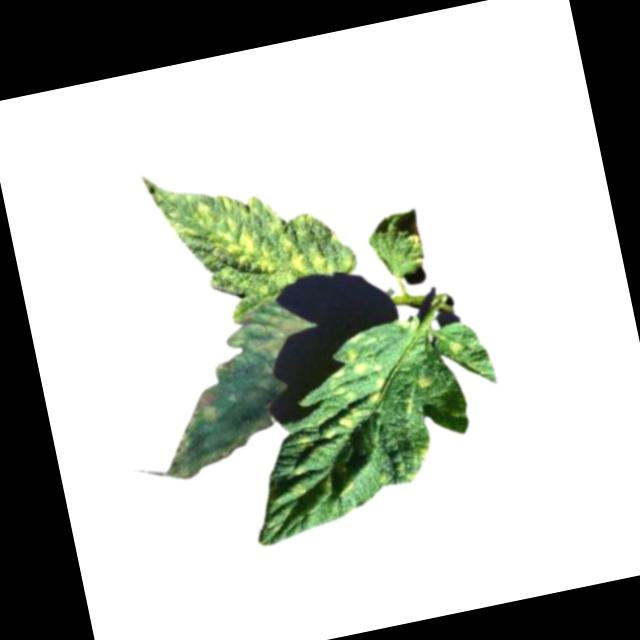Leaf_Mold: (238, 327, 439, 539), (141, 136, 358, 318), (138, 296, 325, 481), (413, 364, 444, 397), (446, 336, 469, 362)
